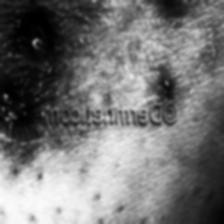Toxin: (16, 21, 54, 67), (0, 88, 25, 148)
